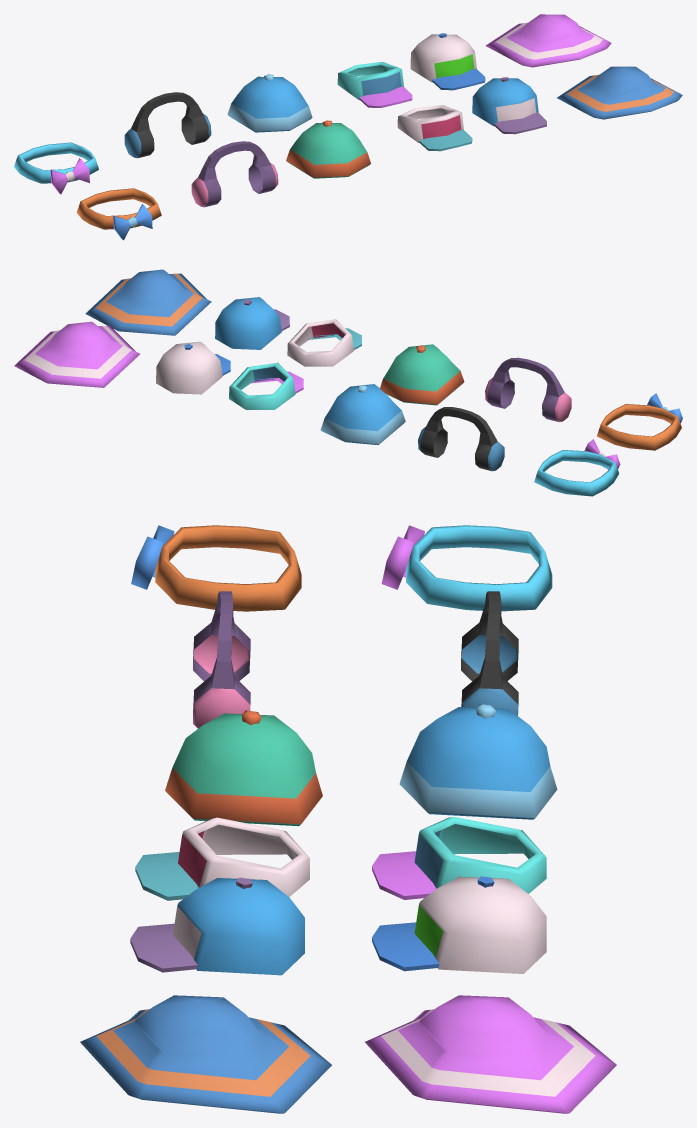
File: cap.fbx
3 views of the same model, one above another, from view 1: azimuth 30°, elevation 25°; view 2: azimuth 150°, elevation 25°; view 3: azimuth 270°, elevation 25° (orthographic). The views are drawn at different scales.
Visible parts, largest first — view 1: cap_B.004, cap_B.006, B.006, B.002, cap_B.001, cap_B.003, Circle.026, Circle.020, cap_B.005, cap_B.002, B.003, B.001; view 2: cap_B.006, cap_B.004, B.006, B.002, cap_B.003, cap_B.001, Circle.020, Circle.026, B.003, B.001, cap_B.005, cap_B.002; view 3: cap_B.004, cap_B.006, B.006, B.002, cap_B.001, cap_B.003, cap_B.005, cap_B.002, B.003, B.001, Circle.026, Circle.020.
Boxes of the visible parts, x1,y1,x2,y2 form: cap_B.004: (485, 14, 611, 67); cap_B.006: (557, 66, 682, 119); B.006: (227, 74, 312, 132); B.002: (286, 120, 370, 178); cap_B.001: (410, 33, 485, 90); cap_B.003: (472, 77, 546, 134); Circle.026: (191, 141, 278, 207); Circle.020: (124, 92, 211, 158); cap_B.005: (397, 105, 472, 151); cap_B.002: (337, 62, 412, 107); B.003: (76, 188, 161, 240); B.001: (14, 142, 98, 194); cap_B.006: (85, 269, 211, 335); cap_B.004: (14, 321, 139, 387); B.006: (320, 384, 405, 444); B.002: (380, 344, 464, 405); cap_B.003: (215, 297, 289, 349); cap_B.001: (156, 341, 230, 394); Circle.020: (418, 407, 504, 471); Circle.026: (485, 357, 571, 422); B.003: (597, 393, 682, 450); B.001: (534, 439, 620, 496); cap_B.005: (287, 319, 361, 366); cap_B.002: (229, 362, 303, 409); cap_B.004: (365, 995, 616, 1113); cap_B.006: (80, 995, 331, 1113); B.006: (399, 704, 557, 819); B.002: (165, 710, 322, 826); cap_B.001: (372, 876, 546, 973); cap_B.003: (130, 877, 304, 975); cap_B.005: (135, 817, 309, 900); cap_B.002: (372, 817, 546, 899); B.003: (131, 525, 301, 611); B.001: (381, 525, 552, 611); Circle.026: (193, 591, 250, 728); Circle.020: (461, 591, 518, 715).
Bounding box in the file's own units: 679 × 59.34 × 275.
